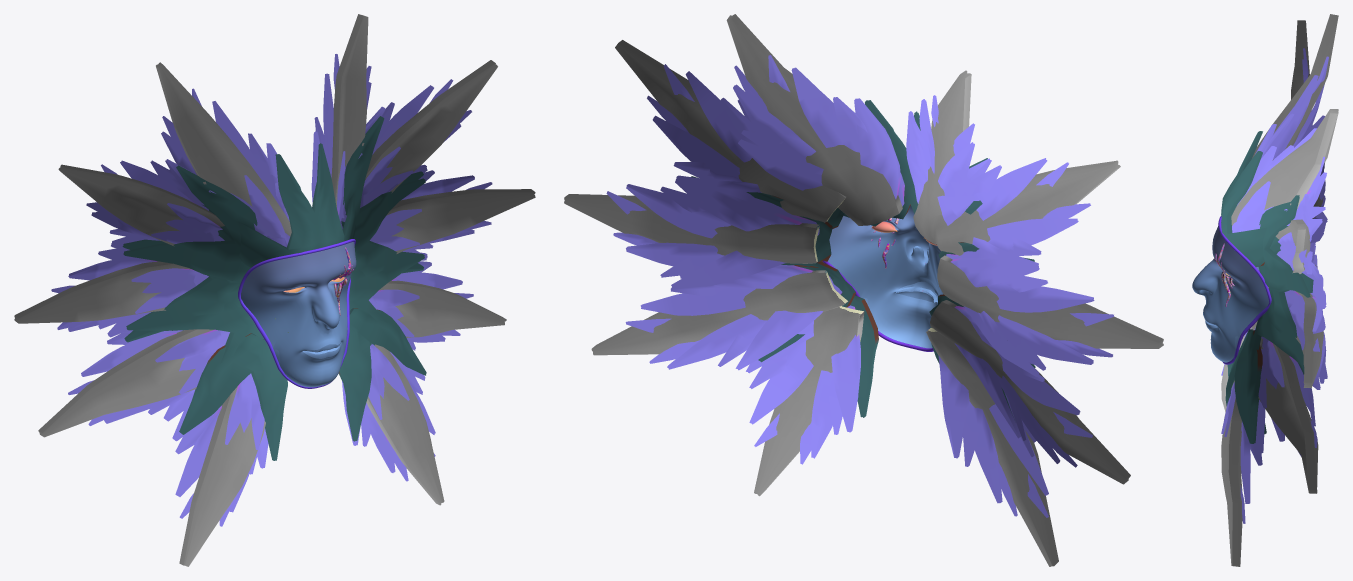
File: Mask_Normal2.glb
3 renders of one model, left to right at view 1: azimuth 30°, elevation 25°; view 2: azimuth 150°, elevation 25°; view 3: azimuth 270°, elevation 25°, orthographic. The views are drawn at different scales.
Visible parts, largest first — view 1: BézierCurve.001, mask1_HornedOne.001, mask1_Curve.004; view 2: BézierCurve.001, mask1_HornedOne.001; view 3: BézierCurve.001, mask1_HornedOne.001, mask1_Curve.004, BézierCurve.002.
Part boxes in pixels (<box>): BézierCurve.001: <box>14,14,535,566</box>; mask1_HornedOne.001: <box>241,242,356,387</box>; mask1_Curve.004: <box>238,239,355,388</box>; BézierCurve.001: <box>564,14,1163,566</box>; mask1_HornedOne.001: <box>828,205,942,348</box>; BézierCurve.001: <box>1221,14,1338,566</box>; mask1_HornedOne.001: <box>1192,226,1269,362</box>; mask1_Curve.004: <box>1218,216,1271,364</box>; BézierCurve.002: <box>1214,243,1234,306</box>.
Bounding box in the file's own units: 0.6544 × 0.5562 × 0.1656.
2 materials, 2 textured.
